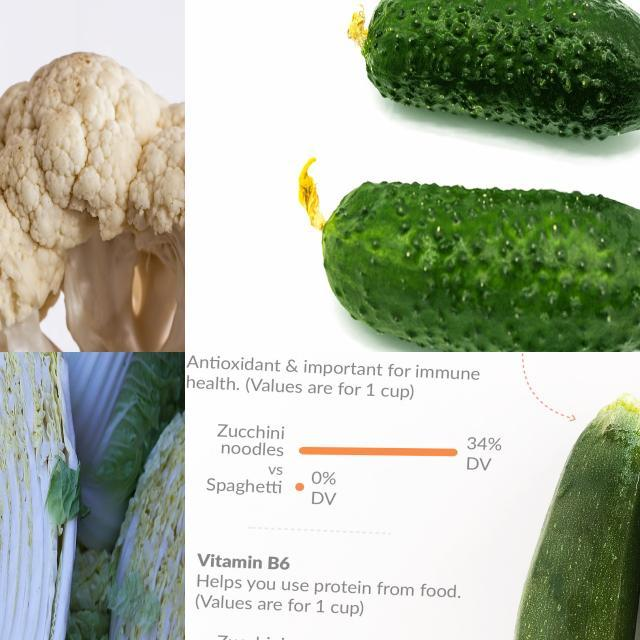cabbage: (19, 353, 186, 527), (1, 353, 78, 640), (112, 422, 186, 640)
cucumber: (316, 178, 640, 353), (366, 1, 640, 146)
zucchini: (500, 368, 640, 640)
